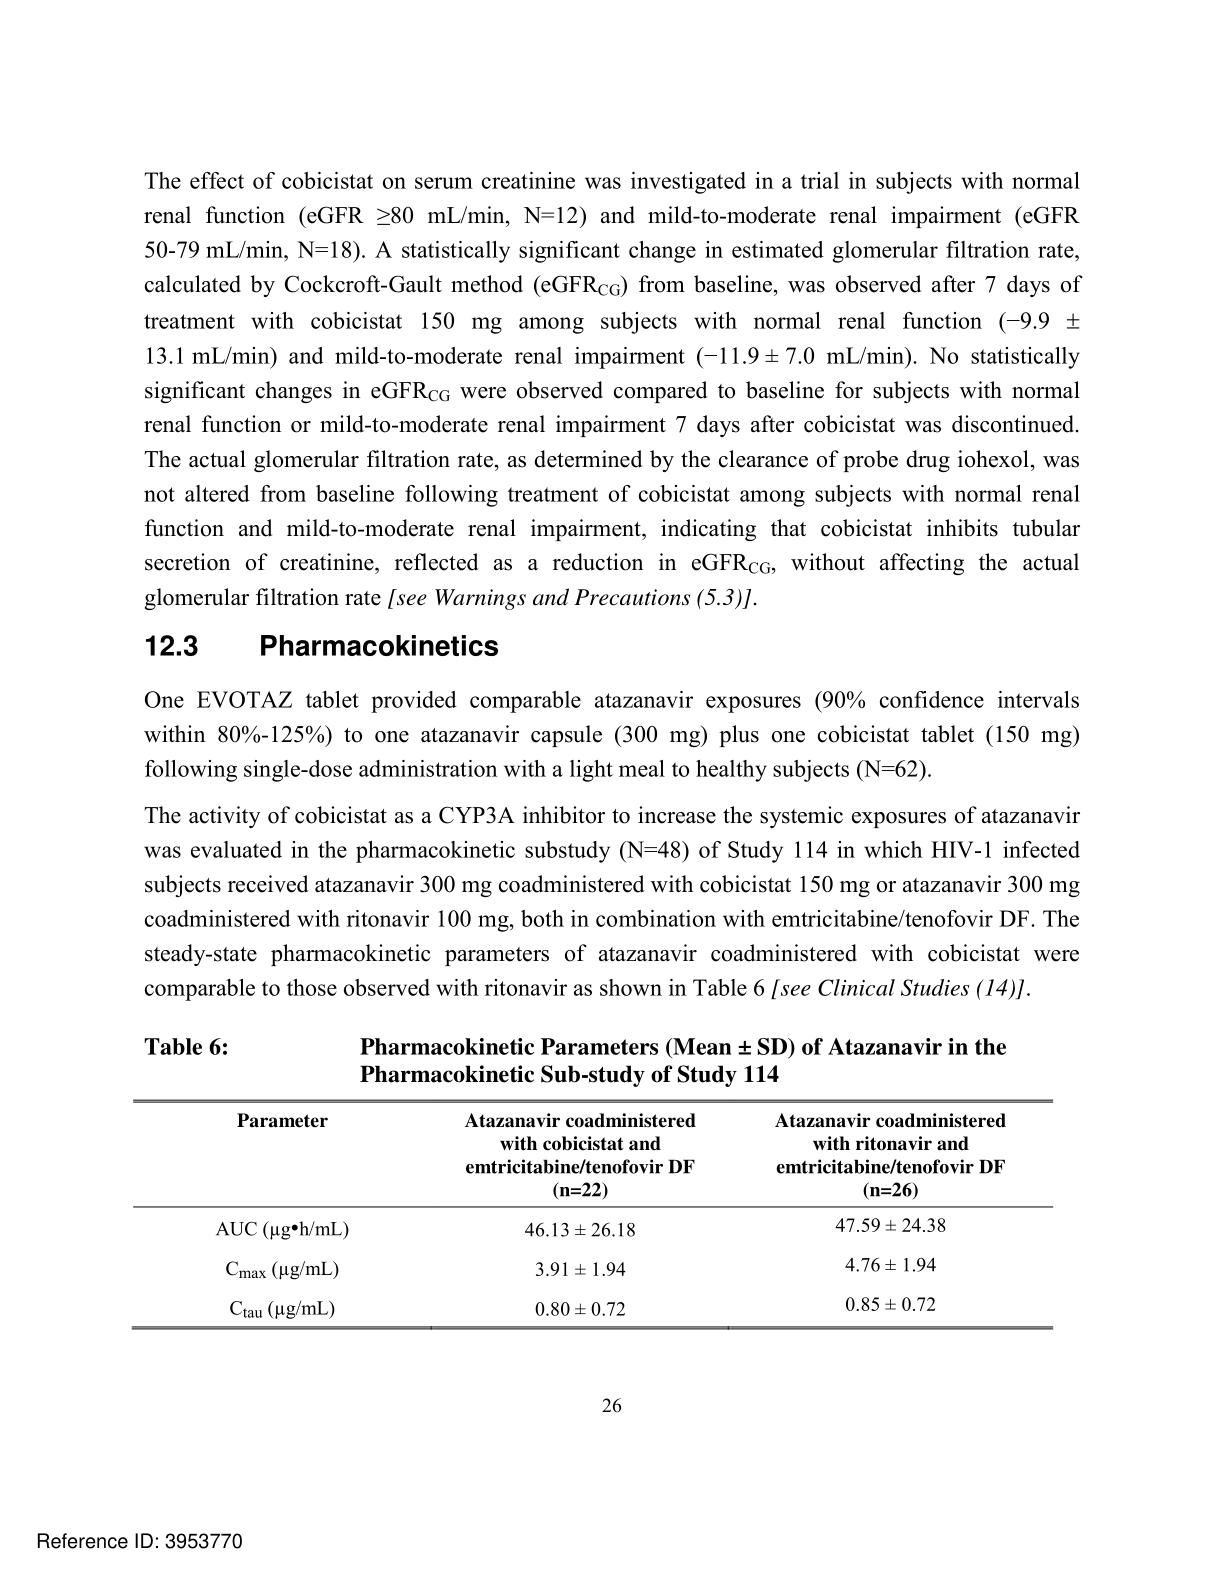partial_lined: (132, 1098, 1056, 1331)
